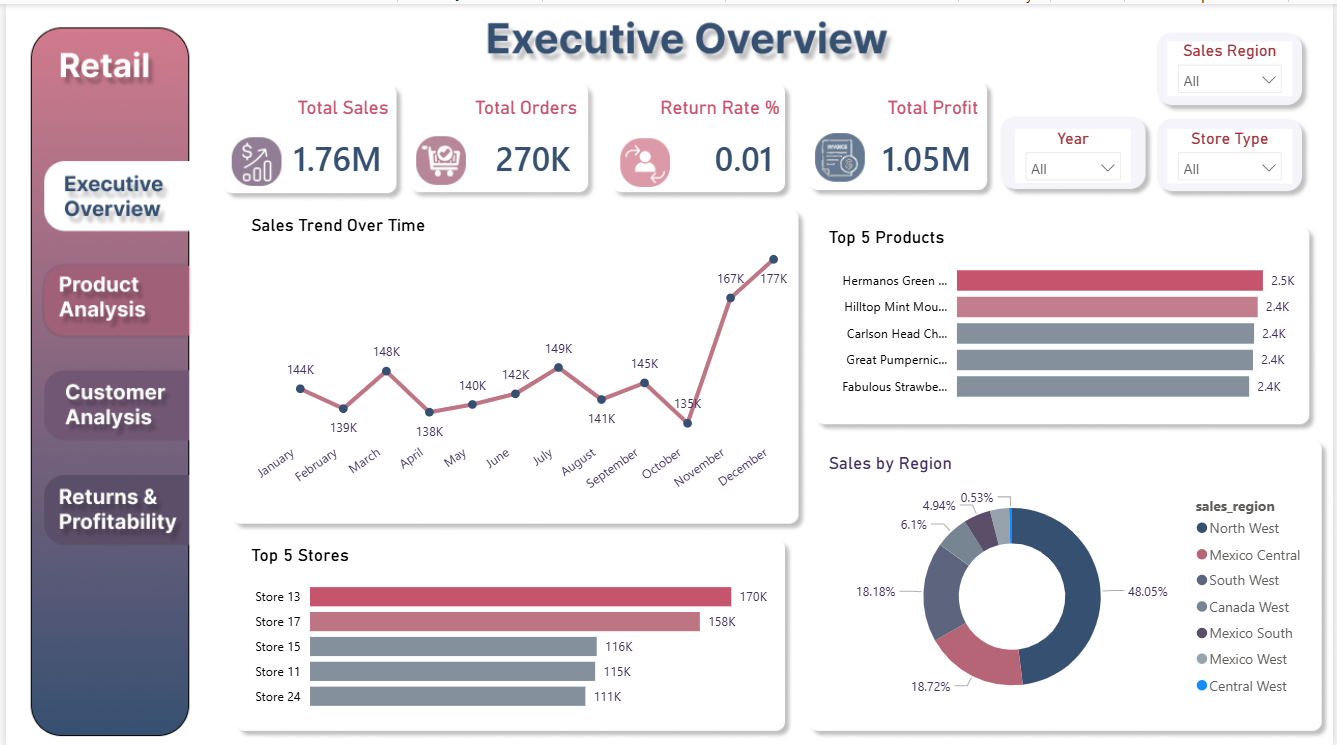

What the dashboard file says about the page in this screenshot:
{"tool":"powerbi","page":{"name":"Executive Overview ","canvas":[1280,720],"ordinal":0},"visuals":[{"type":"cardVisual","fields":{"Data":["Measure.Total Profit"]},"box":[261.9,232.8,146.9,126.6],"z":0},{"type":"lineChart","title":"Sales Trend Over Time","fields":{"Category":["dimdate.date_id.Variation.Date Hierarchy.Month"],"Y":["Measure.Total Sales"]},"box":[231.3,202.2,531,288.1],"z":1000},{"type":"barChart","title":"Top 5 Products","fields":{"Category":["dimproduct.product_name"],"Y":["Measure.Total Sales"]},"box":[788.5,215.3,462.7,180.4],"z":2000},{"type":"barChart","title":"Top 5 Stores","fields":{"Y":["Measure.Total Sales"],"Category":["dimstore.store_name"]},"box":[231.3,520.8,519.4,171.7],"z":3000},{"type":"donutChart","title":"Sales by Region","fields":{"Category":["dimregion.sales_region"],"Y":["Measure.Total Sales"]},"box":[788.5,433.6,474.3,259],"z":4000},{"type":"slicer","title":"Year","fields":{"Values":["dimdate.date_id.Variation.Date Hierarchy.Year","dimdate.date_id.Variation.Date Hierarchy.Quarter"]},"box":[973.6,120.6,112.2,51.9],"z":5000},{"type":"slicer","title":"Sales Region","fields":{"Values":["dimproduct.product_brand"]},"box":[1120.8,36.2,120.6,53.1],"z":6000},{"type":"slicer","title":"Store Type","fields":{"Values":["dimstore.store_type"]},"box":[1120.8,120.6,120.6,53.1],"z":7000},{"type":"cardVisual","title":"Return Rate %","fields":{"Data":["Measure.Return Rate %"]},"box":[603.2,89.3,148.4,92.9],"z":8000},{"type":"cardVisual","title":"Total Orders","fields":{"Data":["Measure.Total Orders"]},"box":[395.7,89.3,160.5,92.9],"z":9000},{"type":"cardVisual","title":"Total Sales","fields":{"Data":["Measure.Total Sales"]},"box":[213.5,89.3,160.5,92.9],"z":10000},{"type":"cardVisual","title":"Total Profit","fields":{"Data":["Measure.Total Profit"]},"box":[797.5,89.3,146,92.9],"z":11000}]}

Visuals, with their boxes in screenshot pixels (x1, y1, x2, y2), scaled from the page's 1280x720 canvas onto the 1337x745 screenshot:
cardVisual - Measure.Total Profit: bbox(274, 241, 427, 372)
"Sales Trend Over Time" lineChart: bbox(242, 209, 796, 507)
"Top 5 Products" barChart: bbox(824, 223, 1307, 409)
"Top 5 Stores" barChart: bbox(242, 539, 784, 717)
"Sales by Region" donutChart: bbox(824, 449, 1319, 717)
"Year" slicer: bbox(1017, 125, 1134, 178)
"Sales Region" slicer: bbox(1171, 37, 1297, 92)
"Store Type" slicer: bbox(1171, 125, 1297, 180)
"Return Rate %" cardVisual: bbox(630, 92, 785, 189)
"Total Orders" cardVisual: bbox(413, 92, 581, 189)
"Total Sales" cardVisual: bbox(223, 92, 391, 189)
"Total Profit" cardVisual: bbox(833, 92, 986, 189)
